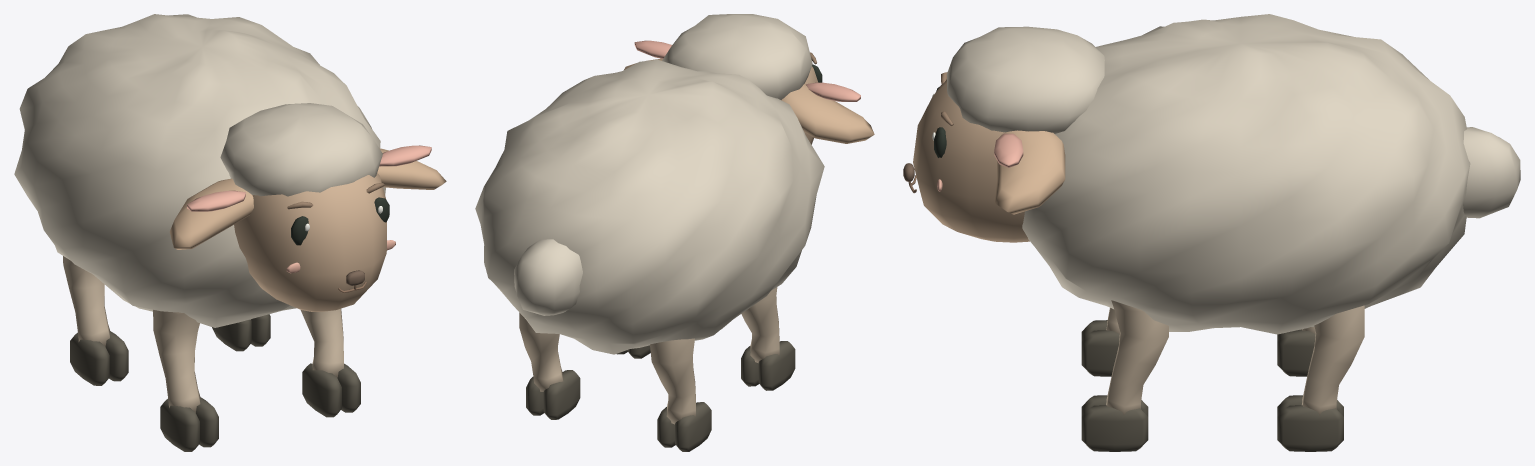
Rendered from sheep-lod.glb.
The picture shows the model from 3 angles, left to right: view 1: azimuth 30°, elevation 25°; view 2: azimuth 150°, elevation 25°; view 3: azimuth 270°, elevation 25°; orthographic projection. The views are drawn at different scales.
Visible parts, largest first — view 1: continuous-sculpted-fleece, face-and-jaw, sculpted-forelock, shaped-leg-2, soft-drooping-ear--1, shaped-leg-0, shaped-leg-3, split-hoof-3-toe--1, split-hoof-0-toe--1, split-hoof-2-toe--1, soft-drooping-ear-1, ear-lining--1 (+6 smaller); view 2: continuous-sculpted-fleece, sculpted-forelock, wool-tail, soft-drooping-ear--1, shaped-leg-0, shaped-leg-1, shaped-leg-2, split-hoof-1-toe--1, split-hoof-2-toe--1, split-hoof-0-toe--1, ear-lining--1, split-hoof-2-toe-1 (+3 smaller); view 3: continuous-sculpted-fleece, sculpted-forelock, face-and-jaw, soft-drooping-ear-1, shaped-leg-3, shaped-leg-1, wool-tail, split-hoof-3-toe-1, split-hoof-1-toe-1, split-hoof-2-toe-1, split-hoof-0-toe-1, ear-lining-1.
Part boxes in pixels (x1=…): continuous-sculpted-fleece: x1=14, y1=14, x2=385, y2=327; face-and-jaw: x1=234, y1=173, x2=386, y2=311; sculpted-forelock: x1=220, y1=103, x2=382, y2=196; shaped-leg-2: x1=153, y1=310, x2=200, y2=412; soft-drooping-ear--1: x1=169, y1=178, x2=253, y2=249; shaped-leg-0: x1=63, y1=256, x2=110, y2=346; shaped-leg-3: x1=300, y1=308, x2=343, y2=377; split-hoof-3-toe--1: x1=302, y1=363, x2=341, y2=417; split-hoof-0-toe--1: x1=70, y1=332, x2=109, y2=385; split-hoof-2-toe--1: x1=160, y1=398, x2=199, y2=451; soft-drooping-ear-1: x1=377, y1=148, x2=446, y2=189; ear-lining--1: x1=187, y1=190, x2=245, y2=211; continuous-sculpted-fleece: x1=475, y1=59, x2=824, y2=354; sculpted-forelock: x1=662, y1=14, x2=812, y2=99; wool-tail: x1=514, y1=239, x2=582, y2=315; soft-drooping-ear--1: x1=781, y1=84, x2=874, y2=143; shaped-leg-0: x1=650, y1=338, x2=696, y2=424; shaped-leg-1: x1=519, y1=312, x2=563, y2=391; shaped-leg-2: x1=741, y1=287, x2=779, y2=363; split-hoof-1-toe--1: x1=543, y1=370, x2=580, y2=419; split-hoof-2-toe--1: x1=758, y1=341, x2=795, y2=390; split-hoof-0-toe--1: x1=675, y1=402, x2=711, y2=451; ear-lining--1: x1=806, y1=82, x2=860, y2=101; split-hoof-2-toe-1: x1=741, y1=346, x2=758, y2=386; continuous-sculpted-fleece: x1=1022, y1=14, x2=1470, y2=334; sculpted-forelock: x1=946, y1=26, x2=1104, y2=133; face-and-jaw: x1=913, y1=79, x2=1029, y2=242; soft-drooping-ear-1: x1=994, y1=130, x2=1065, y2=214; shaped-leg-3: x1=1106, y1=300, x2=1168, y2=414; shaped-leg-1: x1=1302, y1=305, x2=1364, y2=415; wool-tail: x1=1463, y1=127, x2=1520, y2=218; split-hoof-3-toe-1: x1=1081, y1=405, x2=1148, y2=451; split-hoof-1-toe-1: x1=1277, y1=405, x2=1343, y2=451; split-hoof-2-toe-1: x1=1081, y1=330, x2=1119, y2=376; split-hoof-0-toe-1: x1=1277, y1=330, x2=1315, y2=376; ear-lining-1: x1=994, y1=133, x2=1023, y2=167.
Bounding box in the file's own units: 1.09 × 1.23 × 1.86.
